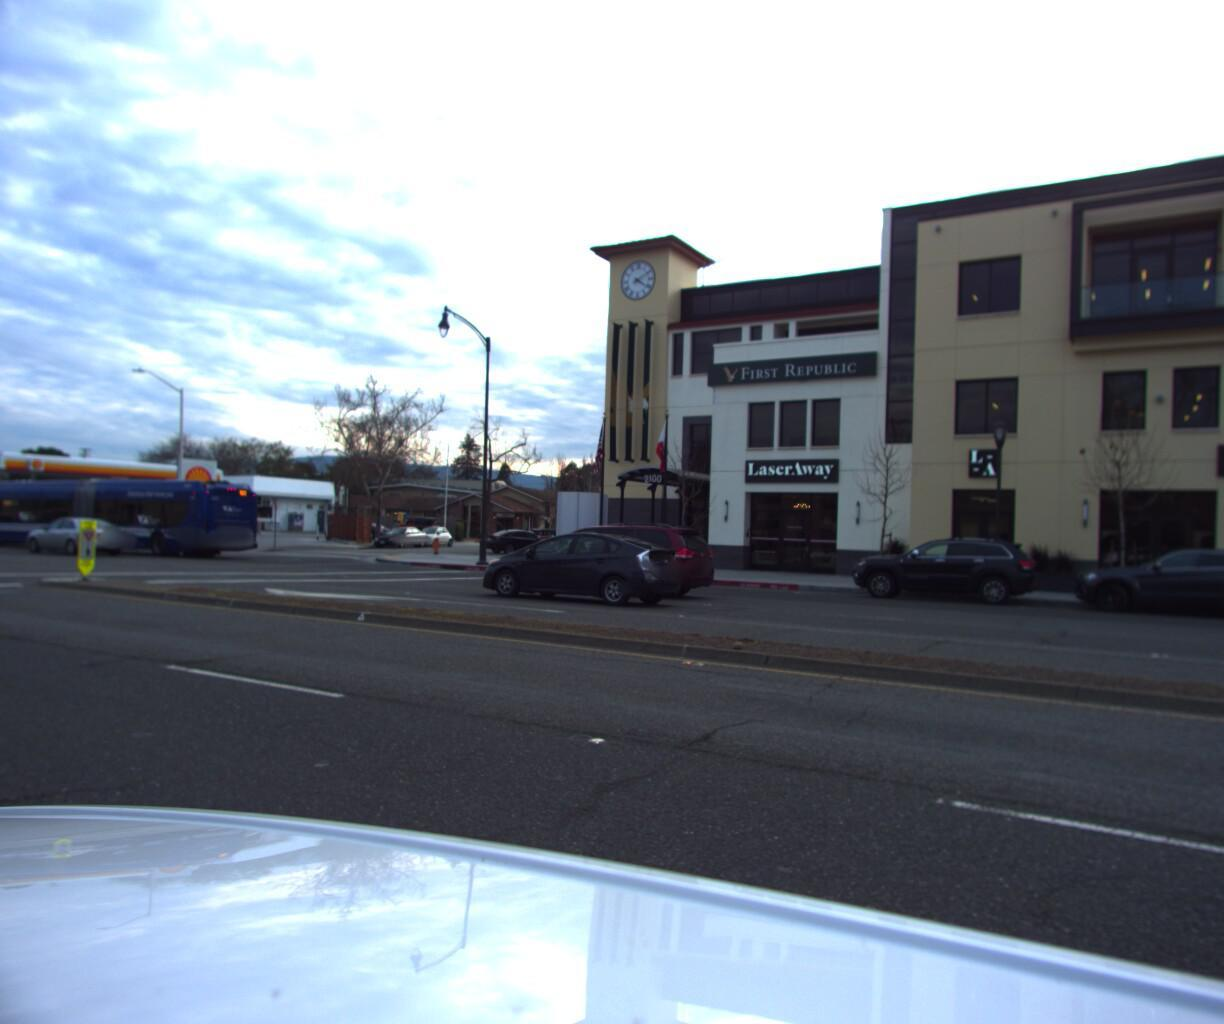bus: (0, 477, 271, 561)
car: (470, 526, 688, 609), (842, 530, 1039, 609), (512, 519, 715, 596), (1063, 540, 1224, 624), (16, 517, 129, 558), (477, 525, 560, 555), (516, 526, 586, 553), (366, 525, 431, 552), (389, 516, 445, 542), (407, 526, 464, 550)
